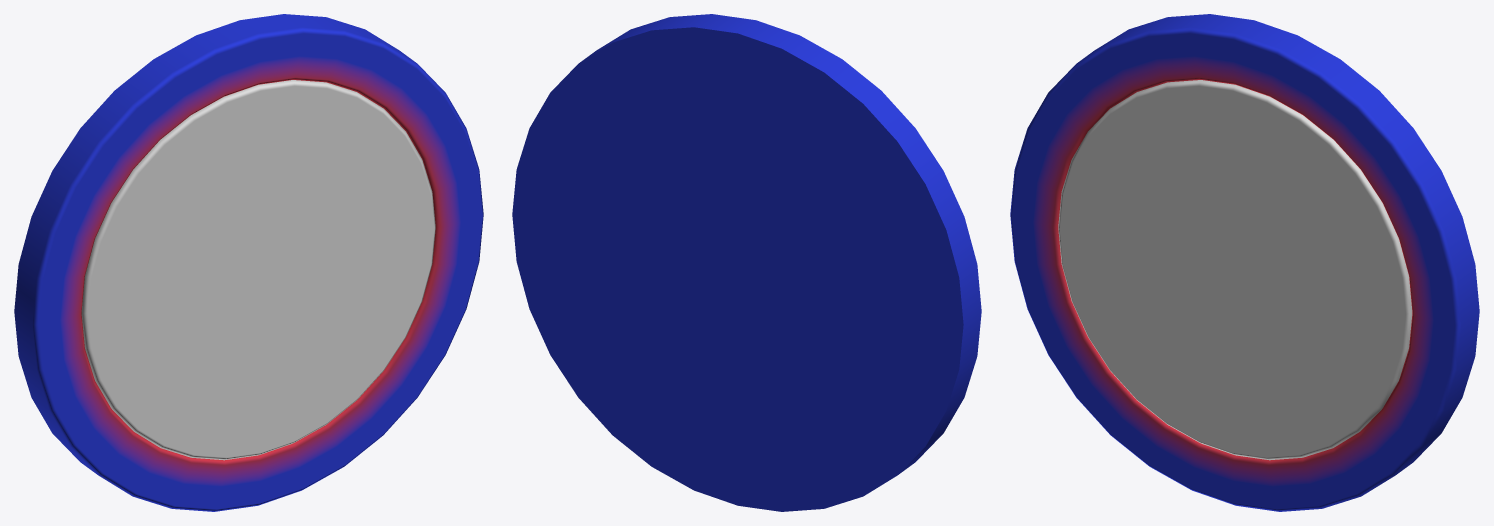
Rendered from WallClock_LP.dae.
3 views of the same model, side by side, from view 1: azimuth 30°, elevation 25°; view 2: azimuth 150°, elevation 25°; view 3: azimuth 330°, elevation 25° (orthographic).
Parts seen in each view (by area): view 1: Glass_LP, Clock_LP; view 2: Clock_LP; view 3: Glass_LP, Clock_LP.
Part boxes in pixels (x1=…): Glass_LP: x1=81, y1=80, x2=435, y2=460; Clock_LP: x1=14, y1=14, x2=483, y2=511; Clock_LP: x1=512, y1=14, x2=981, y2=511; Glass_LP: x1=1058, y1=80, x2=1412, y2=460; Clock_LP: x1=1010, y1=14, x2=1479, y2=511.
Size of the model in its own units: 316 by 316 by 25.8.
